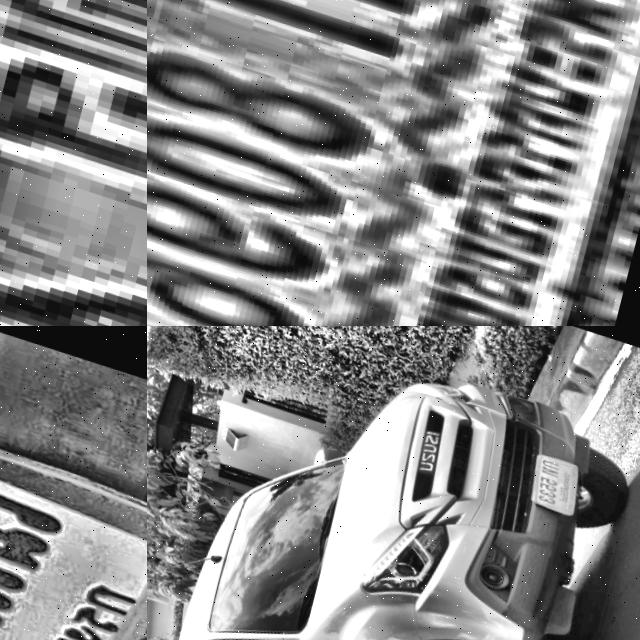license-plate: (147, 0, 640, 326), (0, 0, 147, 326), (0, 351, 147, 640), (524, 442, 586, 509)
